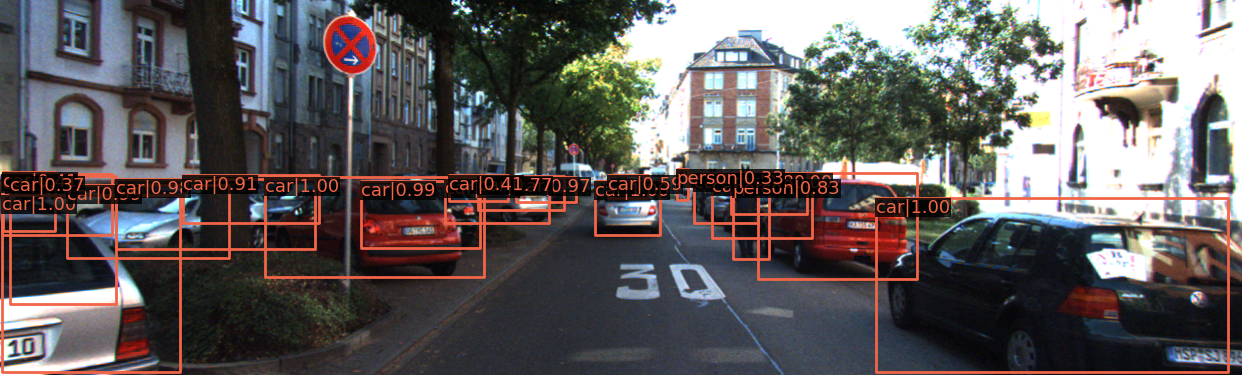car: (877, 202, 1242, 375), (277, 179, 468, 286), (55, 185, 280, 266), (758, 172, 916, 272), (326, 182, 481, 259), (1, 173, 112, 240), (237, 181, 363, 240), (447, 180, 554, 223), (722, 183, 805, 238), (597, 184, 660, 236), (701, 183, 763, 224), (690, 174, 745, 217), (499, 176, 569, 207), (609, 177, 646, 211)
person: (729, 181, 763, 257), (680, 177, 692, 204)
